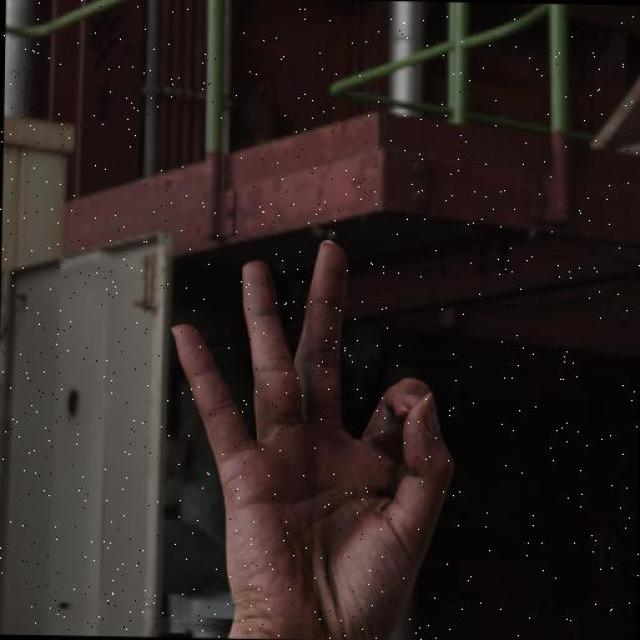F: (160, 235, 464, 640)
